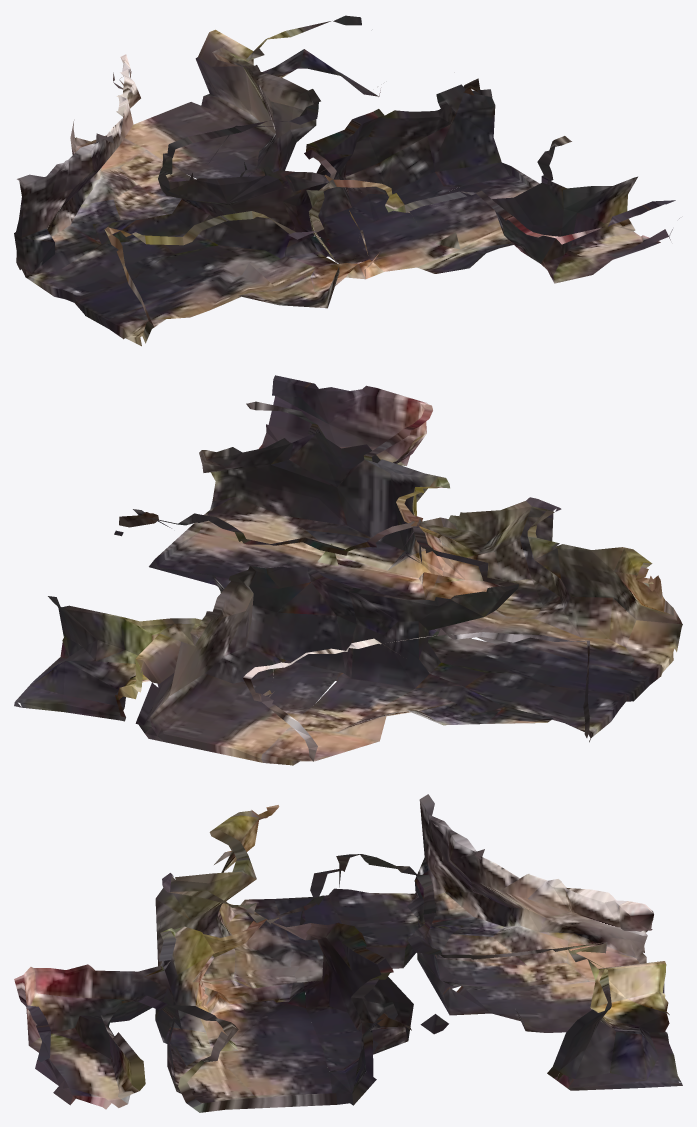
3 renders of one model, top to bottom at view 1: azimuth 30°, elevation 25°; view 2: azimuth 150°, elevation 25°; view 3: azimuth 270°, elevation 25°, orthographic. The views are drawn at different scales.
Parts seen in each view (by area): view 1: Mesh_0; view 2: Mesh_0; view 3: Mesh_0.
Part boxes in pixels (<box>): Mesh_0: <box>14,15,679,346</box>; Mesh_0: <box>14,375,682,765</box>; Mesh_0: <box>14,794,682,1112</box>.
Bounding box in the file's own units: 32 × 6.88 × 36.81.
Materials: 1 (1 with a texture image).
